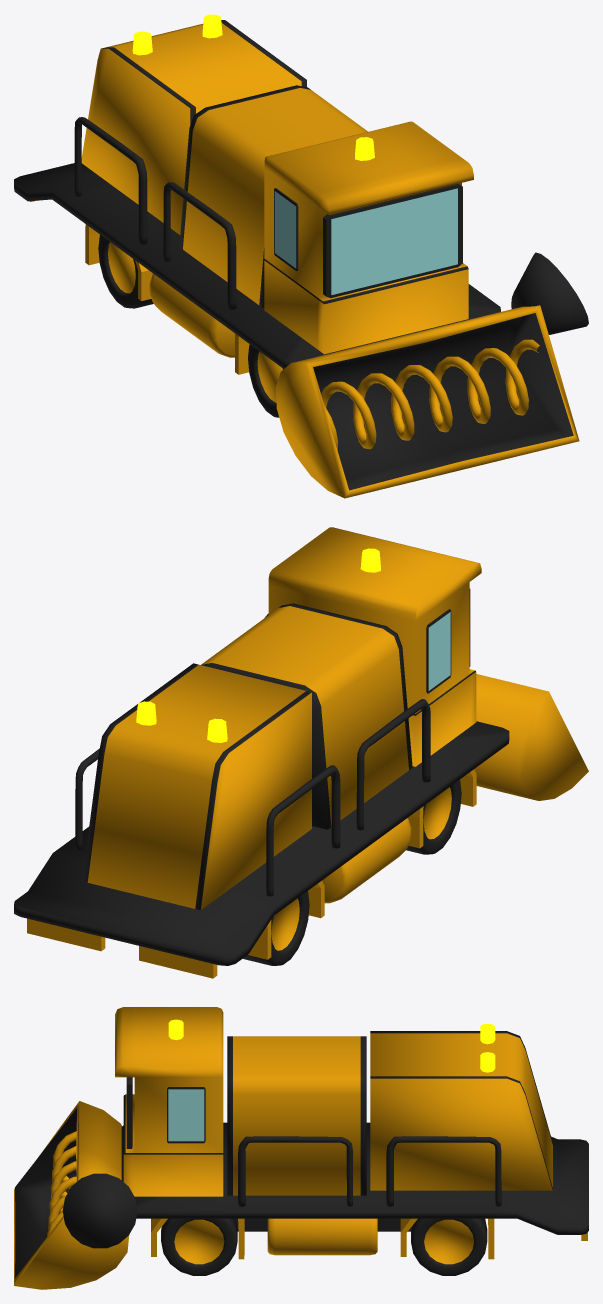
Rendered from Snow_Sweeper.fbx.
3 renders of one model, top to bottom at view 1: azimuth 30°, elevation 25°; view 2: azimuth 150°, elevation 25°; view 3: azimuth 270°, elevation 25°, orthographic. The views are drawn at different scales.
Visible parts, largest first — view 1: Circle.007; view 2: Circle.007; view 3: Circle.007.
Boxes of the visible parts, bbox=[...] form: Circle.007: bbox=[14, 14, 588, 498]; Circle.007: bbox=[14, 527, 588, 978]; Circle.007: bbox=[14, 1007, 588, 1289].
Bounding box in the file's own units: 484 × 431 × 1016.
